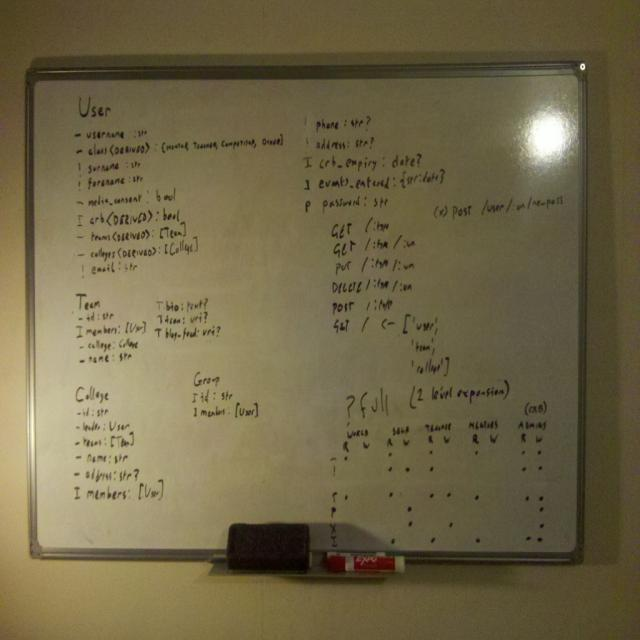Whiteboard: (23, 58, 586, 567)
